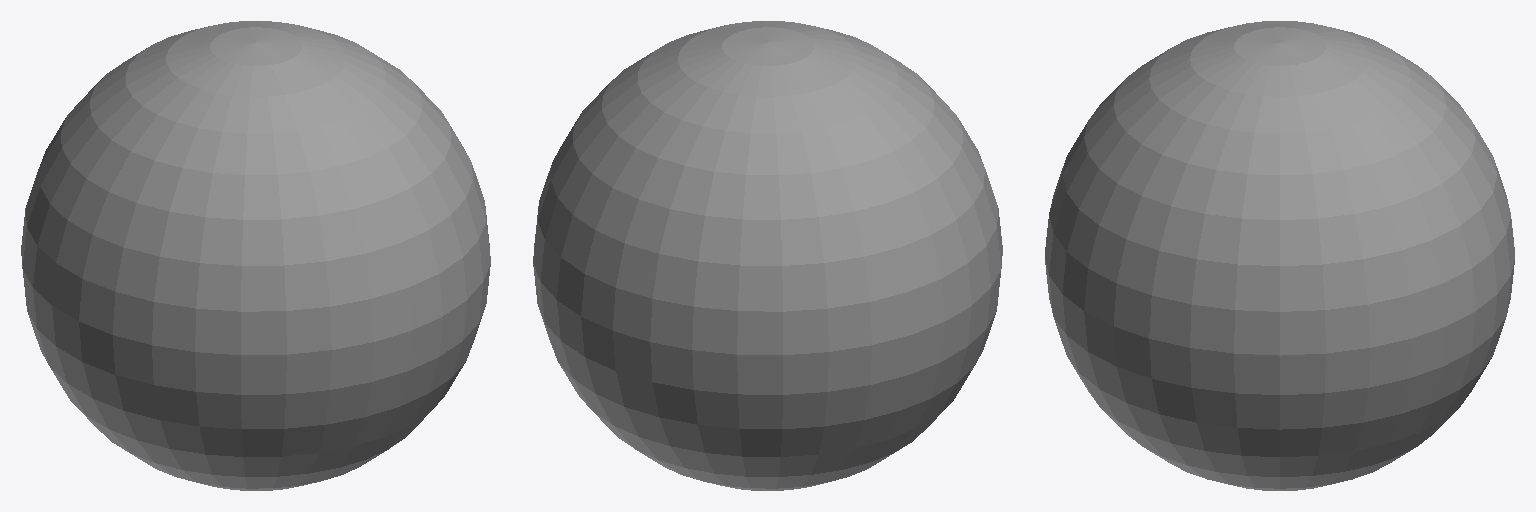
Rendered from bullet.obj.
The picture shows the model from 3 angles: view 1: azimuth 30°, elevation 25°; view 2: azimuth 150°, elevation 25°; view 3: azimuth 270°, elevation 25°; orthographic projection.
Visible parts, largest first — view 1: Sphere; view 2: Sphere; view 3: Sphere.
Part boxes in pixels (bbox=[...]): Sphere: bbox=[21, 21, 490, 490]; Sphere: bbox=[533, 21, 1002, 490]; Sphere: bbox=[1045, 21, 1514, 490].
Size of the model in its own units: 0.4 by 0.4 by 0.4.